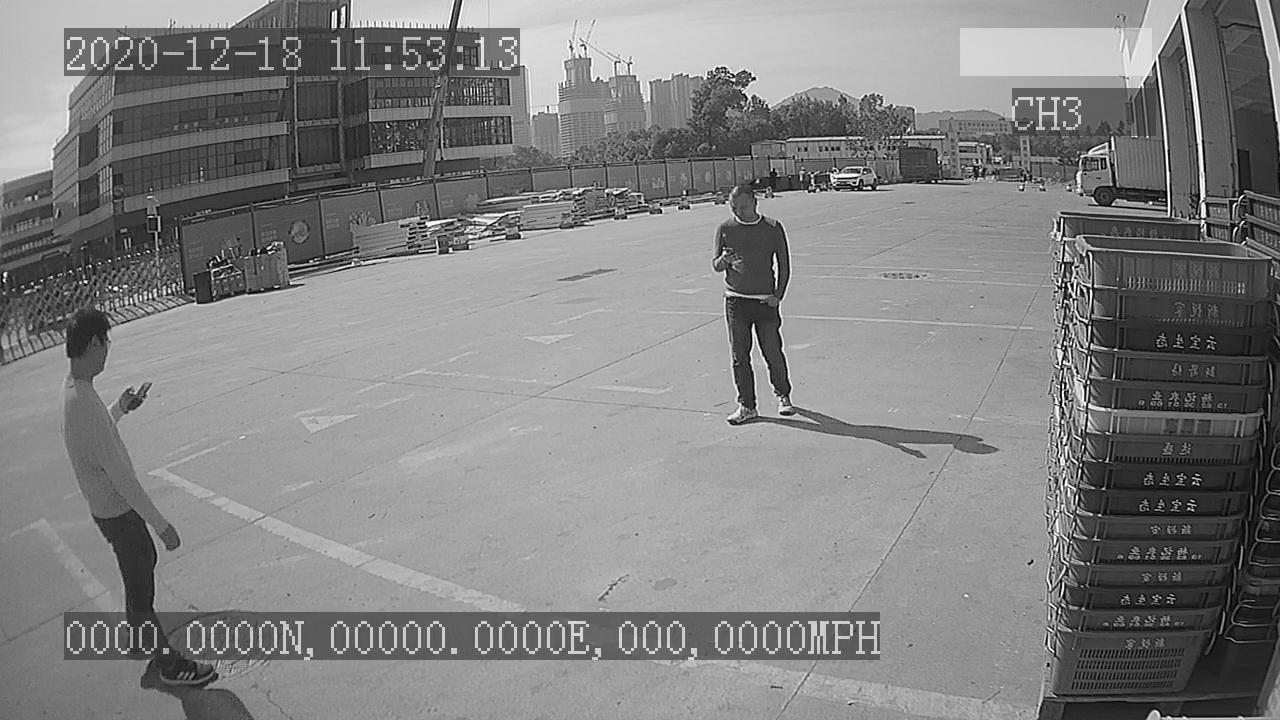person: (701, 176, 808, 433)
